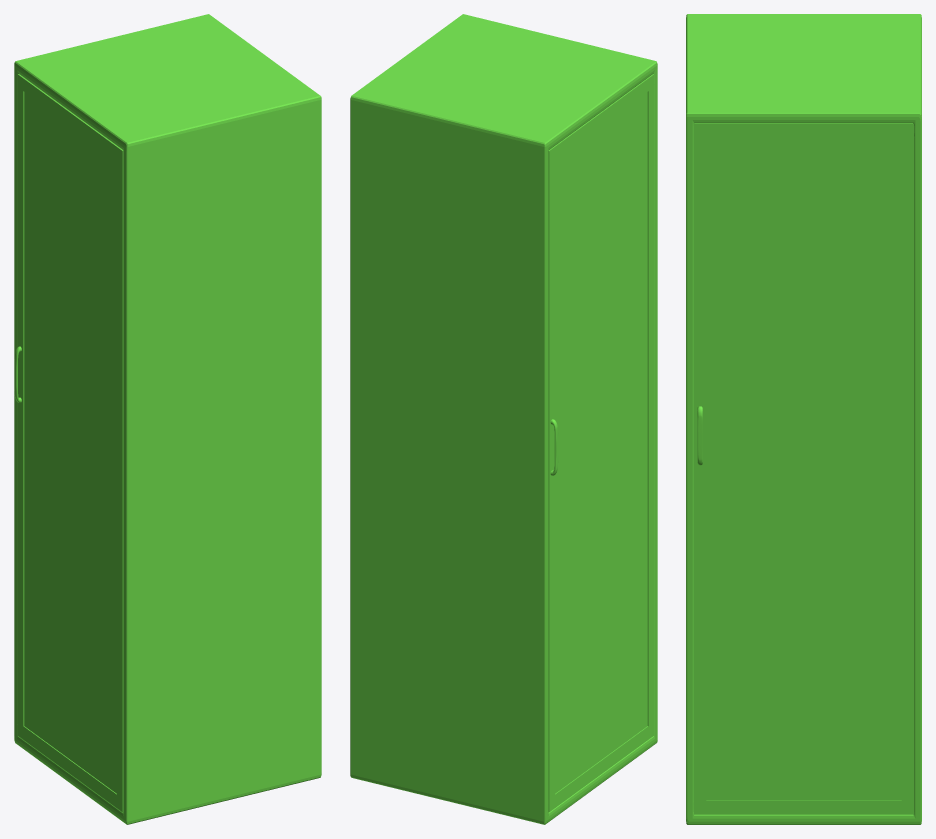
File: cabinet.gltf
The picture shows the model from 3 angles, left to right: view 1: azimuth 30°, elevation 25°; view 2: azimuth 150°, elevation 25°; view 3: azimuth 270°, elevation 25°; orthographic projection. The views are drawn at different scales.
Parts seen in each view (by area): view 1: container, back-door; view 2: container, back-door; view 3: front-door, container.
Part boxes in pixels (x1=…): container: x1=14, y1=14, x2=321, y2=824; back-door: x1=14, y1=74, x2=123, y2=812; container: x1=350, y1=14, x2=657, y2=824; back-door: x1=548, y1=74, x2=654, y2=812; front-door: x1=694, y1=123, x2=913, y2=814; container: x1=686, y1=14, x2=921, y2=824.
Size of the model in its own units: 12.64 by 40 by 12.
